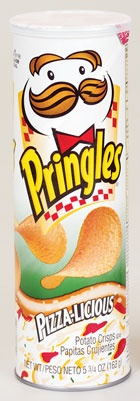grozi_36: (8, 11, 132, 393)
